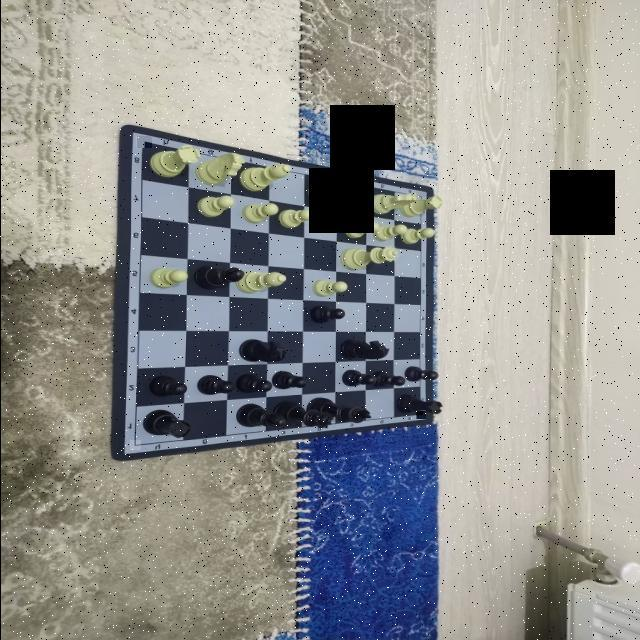chess-table-corners: (134, 136, 150, 148), (129, 440, 140, 450), (415, 192, 425, 201), (414, 411, 424, 419)
